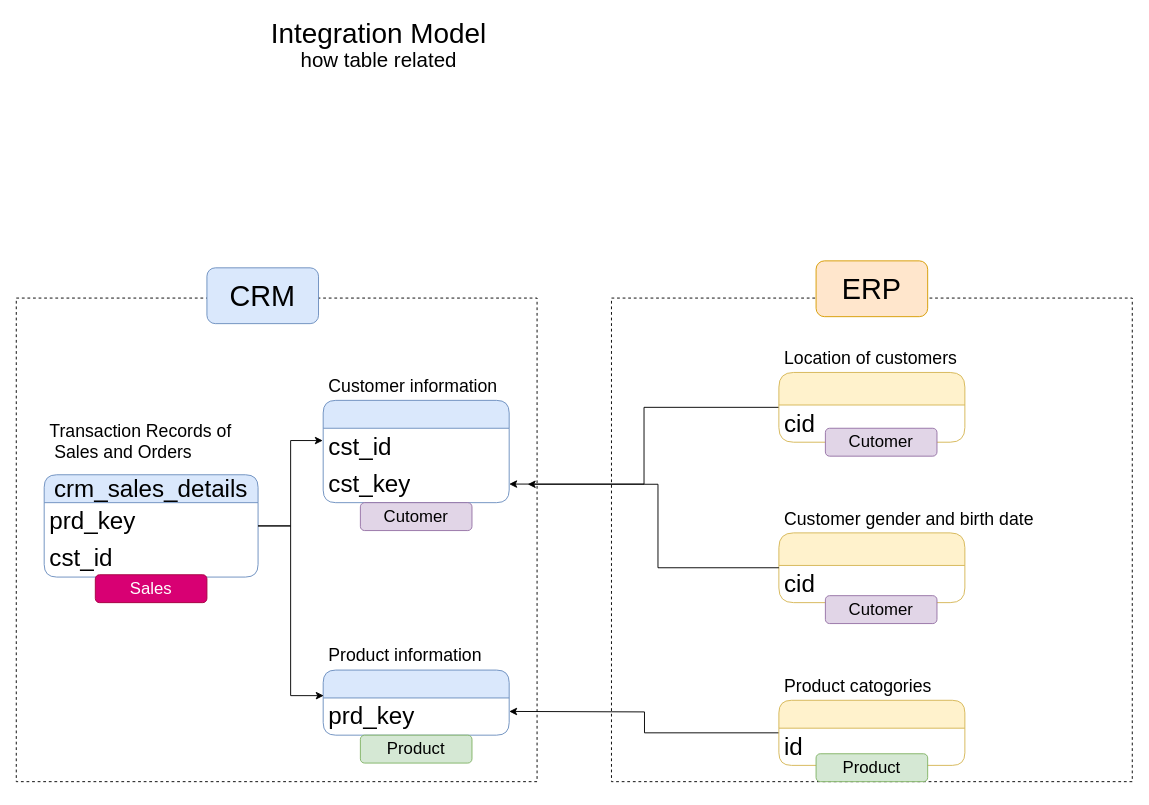
Image size: 1149x805. Some labels were removed from this diagram. Each missing label, with the box of its shape:
crm_cust_info: (322, 399, 509, 503)
crm_prd_info: (322, 669, 509, 735)
erp_cust_az12: (778, 532, 965, 603)
erp_loc_a101: (778, 372, 965, 442)
erp_px_catg1v2: (778, 699, 965, 765)
